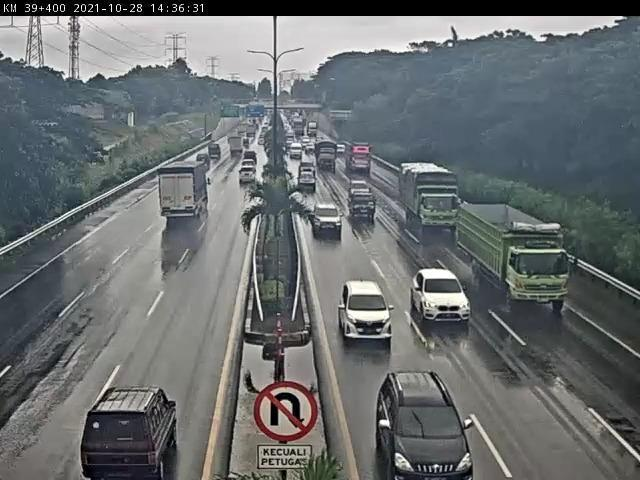car: (377, 367, 475, 480), (80, 385, 182, 480), (413, 269, 475, 330), (340, 283, 394, 344), (311, 203, 345, 235), (349, 192, 378, 219), (237, 167, 257, 188), (298, 169, 317, 189), (349, 177, 369, 194), (240, 158, 259, 173), (195, 151, 211, 165)
truck: (459, 204, 573, 312), (400, 163, 460, 236), (160, 163, 211, 219)
